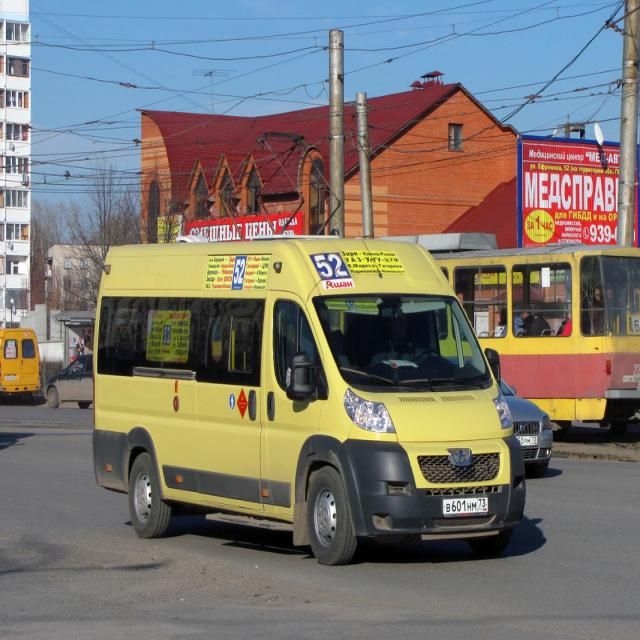number-of-bus: (315, 252, 350, 280), (234, 259, 247, 287)
